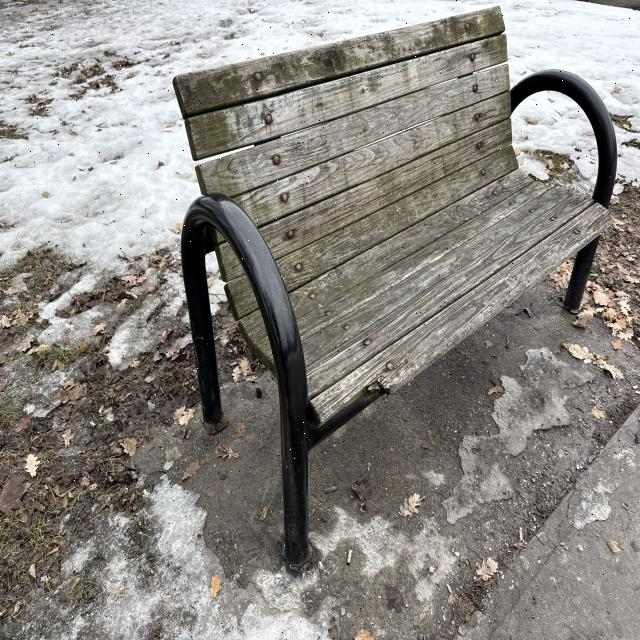Bench: (165, 46, 428, 539), (264, 6, 622, 359)
